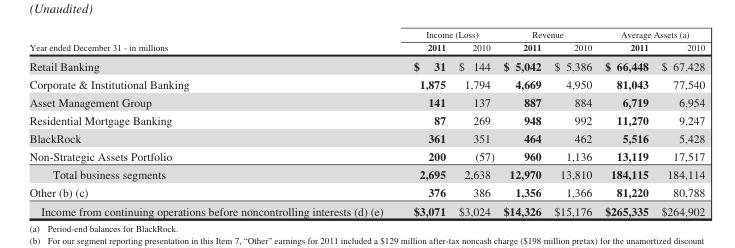table: (28, 29, 704, 217)
table column: (28, 29, 397, 217), (597, 29, 654, 217), (397, 29, 451, 217), (547, 29, 597, 217), (654, 29, 704, 217), (498, 29, 547, 217), (451, 29, 498, 217)
table column header: (28, 29, 704, 55)
table row: (28, 55, 704, 74), (28, 128, 704, 147), (28, 74, 704, 92), (28, 92, 704, 110), (28, 110, 704, 128), (28, 147, 704, 165), (28, 165, 704, 183), (28, 183, 704, 201), (28, 201, 704, 217), (28, 40, 704, 55), (28, 29, 704, 40)
table spanning cell: (28, 29, 397, 55), (597, 29, 704, 40), (397, 29, 498, 40), (498, 29, 597, 40)
